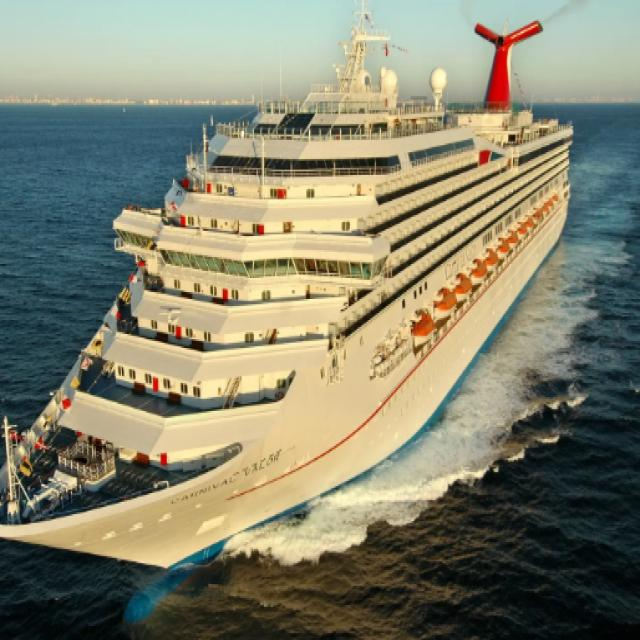passenger ship: (0, 12, 586, 568)
